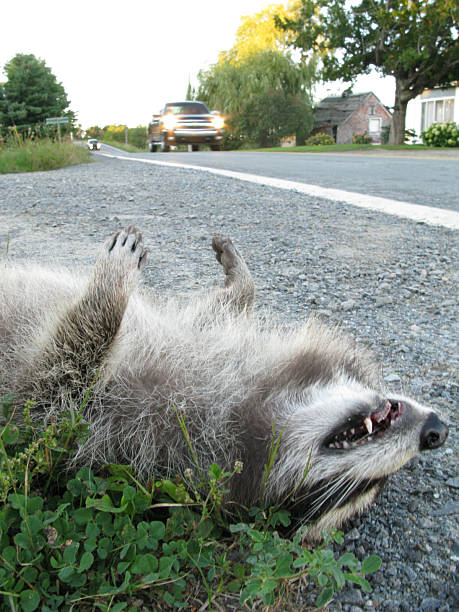raccoon: (10, 253, 450, 542)
